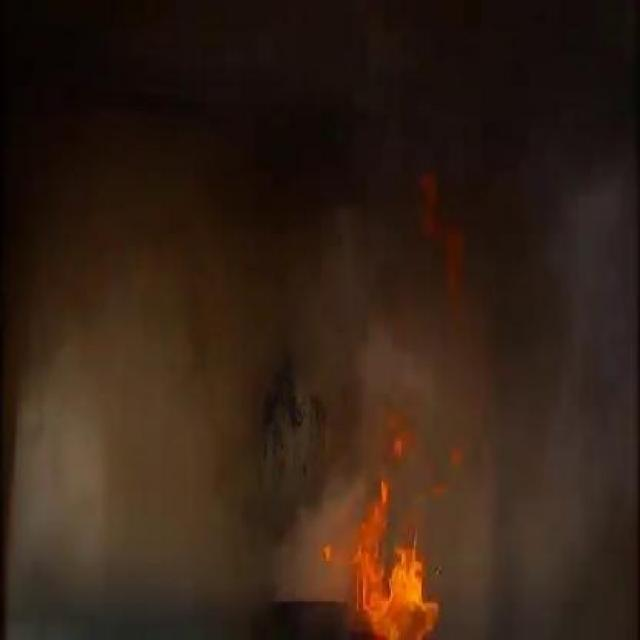fire: (326, 442, 451, 636)
